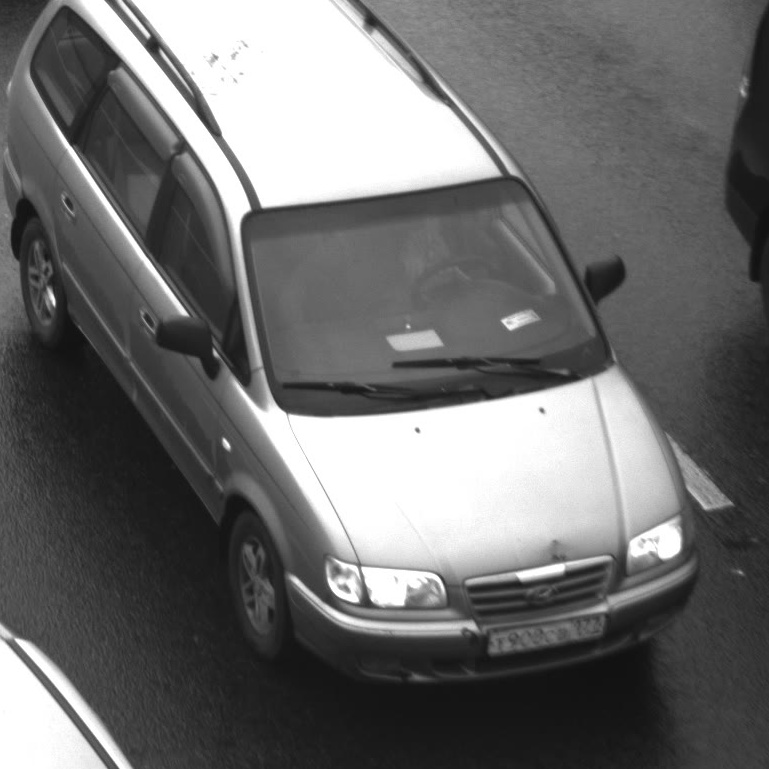plate: (481, 602, 609, 660)
